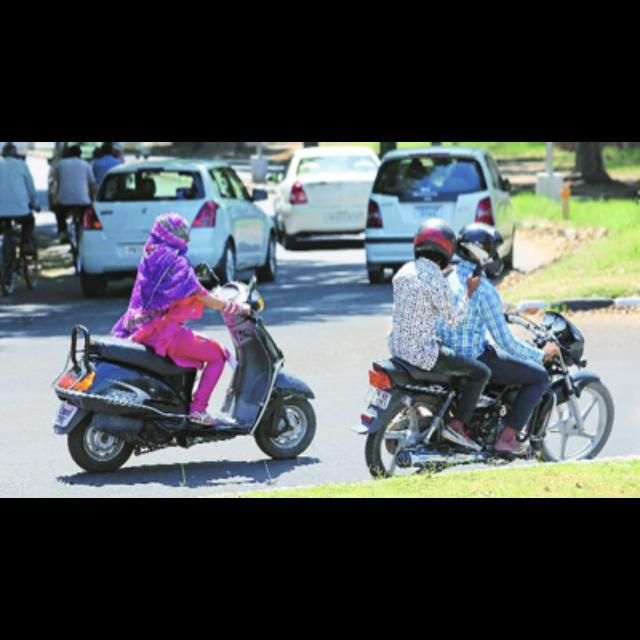With Helmet: (456, 214, 508, 282)
Without Helmet: (147, 202, 195, 255)
